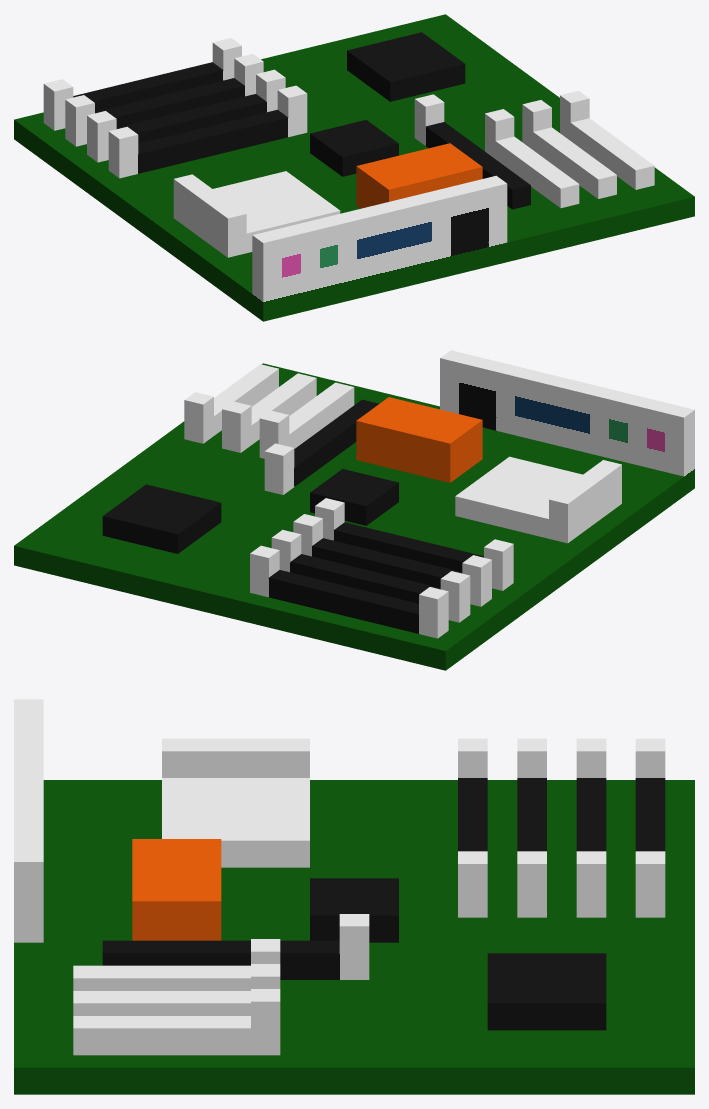
The model's file is motherboard.dae.
3 renders of one model, top to bottom at view 1: azimuth 30°, elevation 25°; view 2: azimuth 150°, elevation 25°; view 3: azimuth 270°, elevation 25°, orthographic. The views are drawn at different scales.
Parts seen in each view (by area): view 1: motherboard; view 2: motherboard; view 3: motherboard.
Boxes of the visible parts, box(x1,y1,x2,y2) form: motherboard: box(14, 14, 694, 321); motherboard: box(14, 350, 694, 670); motherboard: box(14, 699, 694, 1094).
Size of the model in its own units: 2.3 by 0.4 by 2.3.
1 material, 1 textured.
